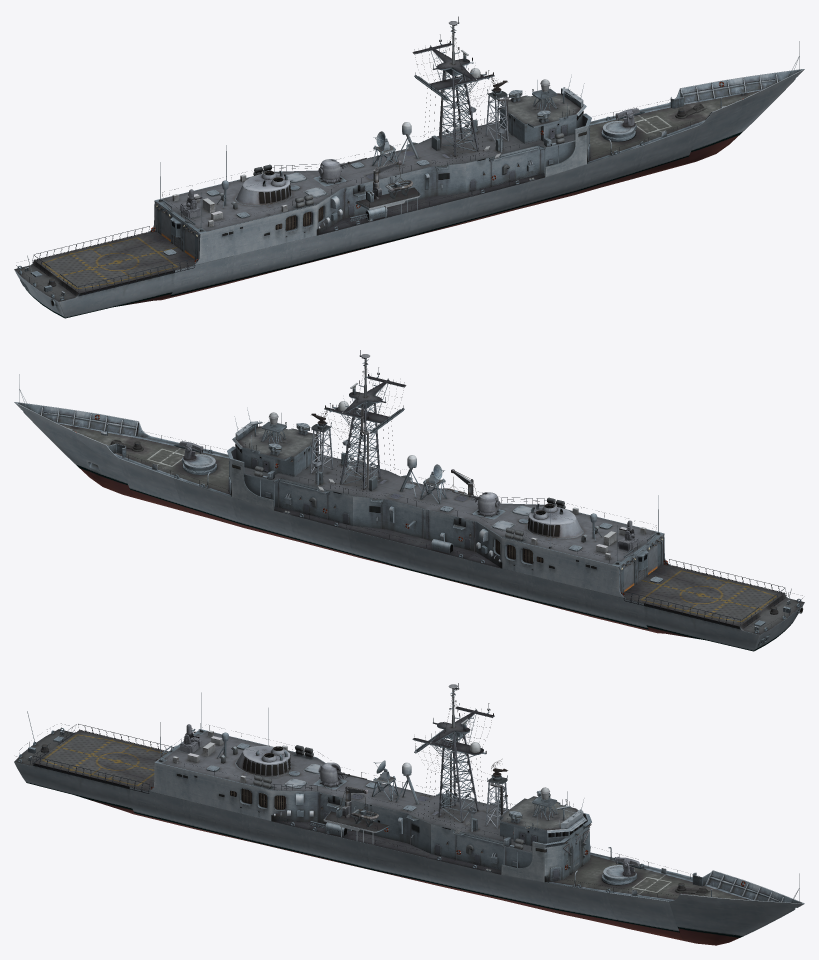
Rendered from USS_Oliver_Hazard_Perry_FFG-7_Model.glb.
The picture shows the model from 3 angles, top to bottom: view 1: azimuth 30°, elevation 25°; view 2: azimuth 150°, elevation 25°; view 3: azimuth 330°, elevation 25°; orthographic projection.
Visible parts, largest first — view 1: skfb_offset; view 2: skfb_offset; view 3: skfb_offset.
Part boxes in pixels (<box>): skfb_offset: <box>14,16,804,318</box>; skfb_offset: <box>14,350,804,651</box>; skfb_offset: <box>14,683,804,945</box>.
Bounding box in the file's own units: 36717 × 9333 × 4086.
9 materials, 9 textured.
